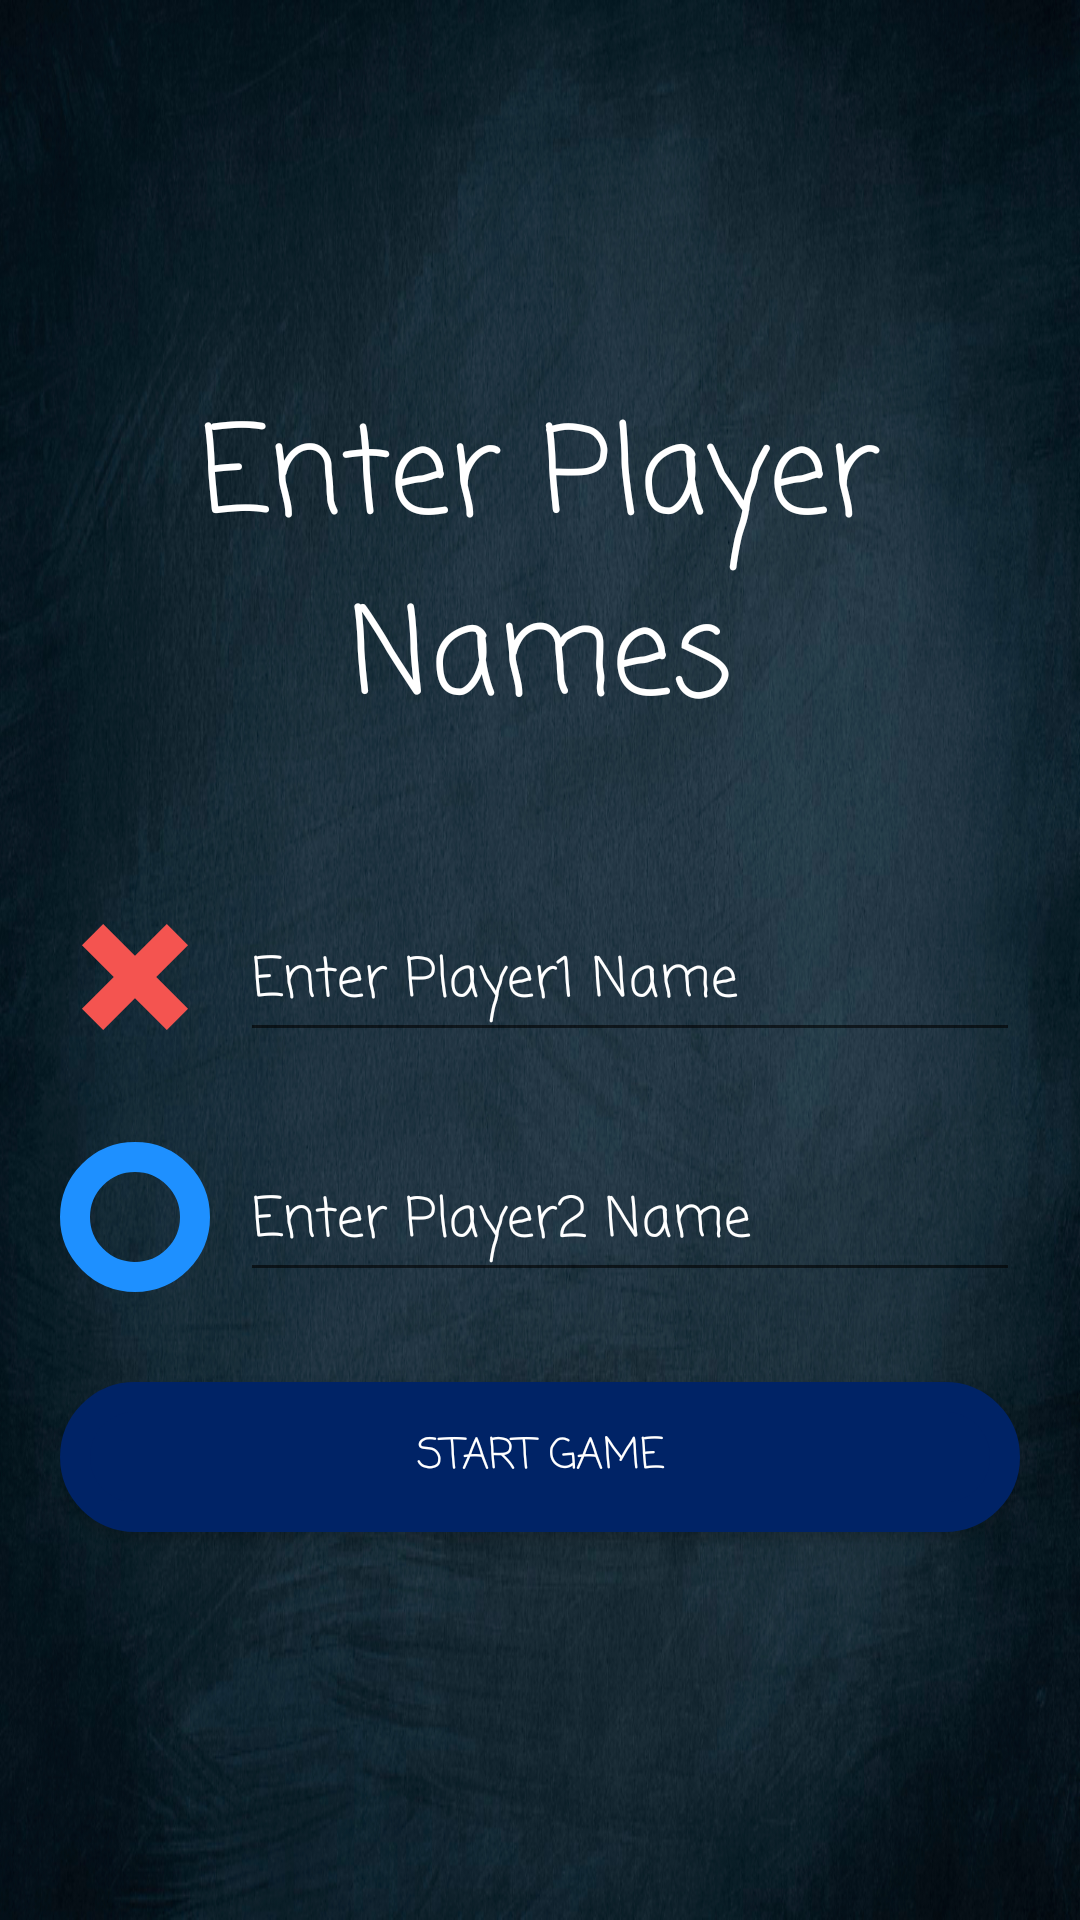

Icon bounding boxes for this 1080w x 1920h phone screenshot, format (x1, y1, x2, y2):
circle centre hole: (60, 1142, 210, 1292)
cross: (82, 924, 188, 1030)
